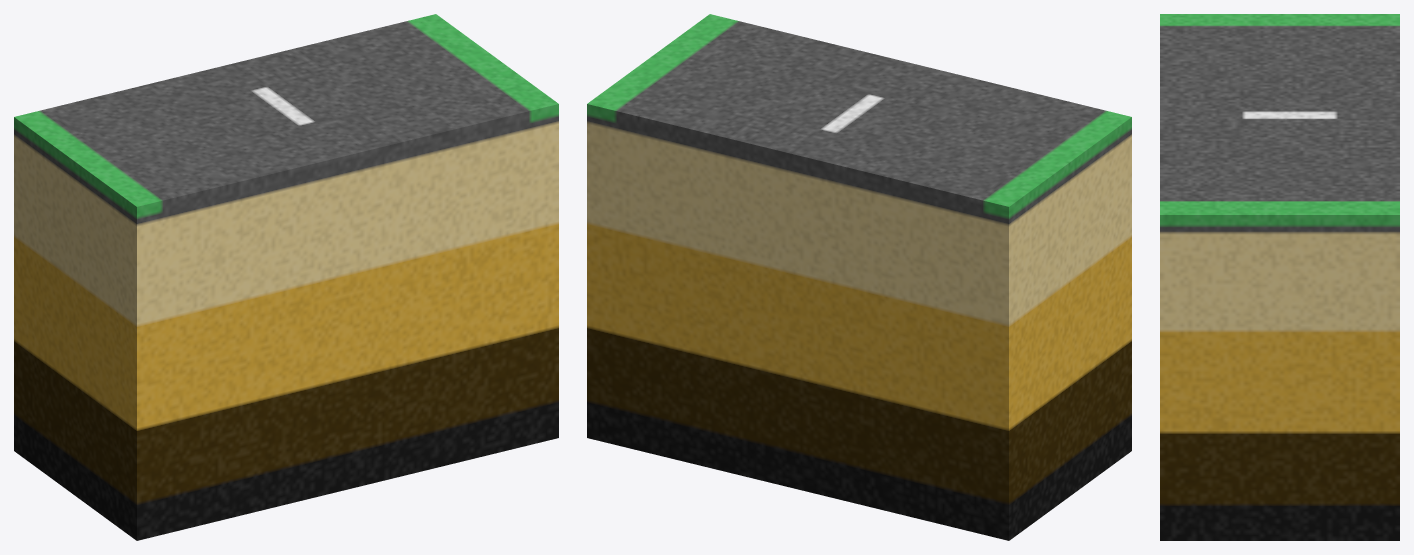
File: ObstacleRoad.fbx
3 renders of one model, left to right at view 1: azimuth 30°, elevation 25°; view 2: azimuth 150°, elevation 25°; view 3: azimuth 270°, elevation 25°, orthographic. The views are drawn at different scales.
Visible parts, largest first — view 1: Road; view 2: Road; view 3: Road.
Boxes of the visible parts, x1=… form: Road: x1=14, y1=14, x2=558, y2=540; Road: x1=587, y1=14, x2=1131, y2=540; Road: x1=1160, y1=14, x2=1399, y2=540.
Bounding box in the file's own units: 119 × 90 × 60.
